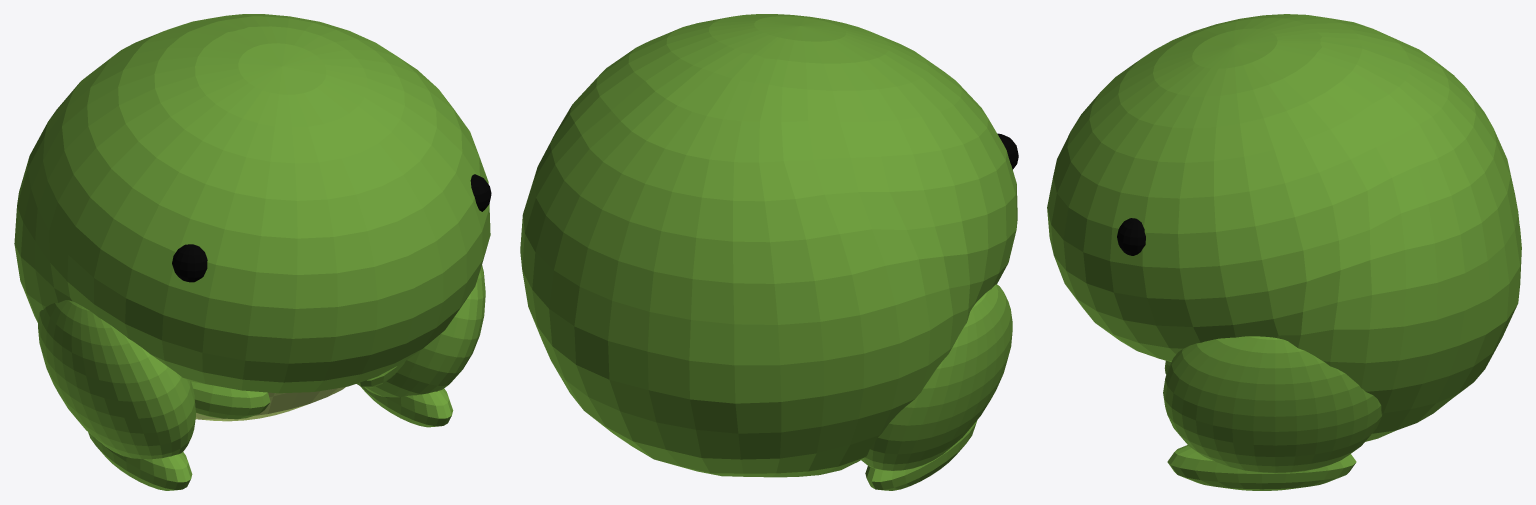
Rendered from frobert.fbx.
3 renders of one model, left to right at view 1: azimuth 30°, elevation 25°; view 2: azimuth 150°, elevation 25°; view 3: azimuth 270°, elevation 25°, orthographic. The views are drawn at different scales.
Parts seen in each view (by area): view 1: Body, Legs, Feet, Arms, Eyes; view 2: Body, Legs, Feet; view 3: Body, Legs, Feet, Eyes.
Part boxes in pixels (x1,y1,x2,y2): Body: (14, 14, 490, 421); Legs: (38, 265, 485, 459); Feet: (88, 386, 453, 490); Arms: (191, 361, 405, 419); Eyes: (172, 174, 491, 282); Body: (520, 14, 1017, 477); Legs: (860, 284, 1012, 470); Feet: (865, 420, 977, 490); Body: (1047, 14, 1521, 441); Legs: (1163, 336, 1381, 473); Feet: (1167, 445, 1356, 490); Eyes: (1117, 218, 1145, 255).
Size of the model in its own units: 101 by 94.57 by 106.
